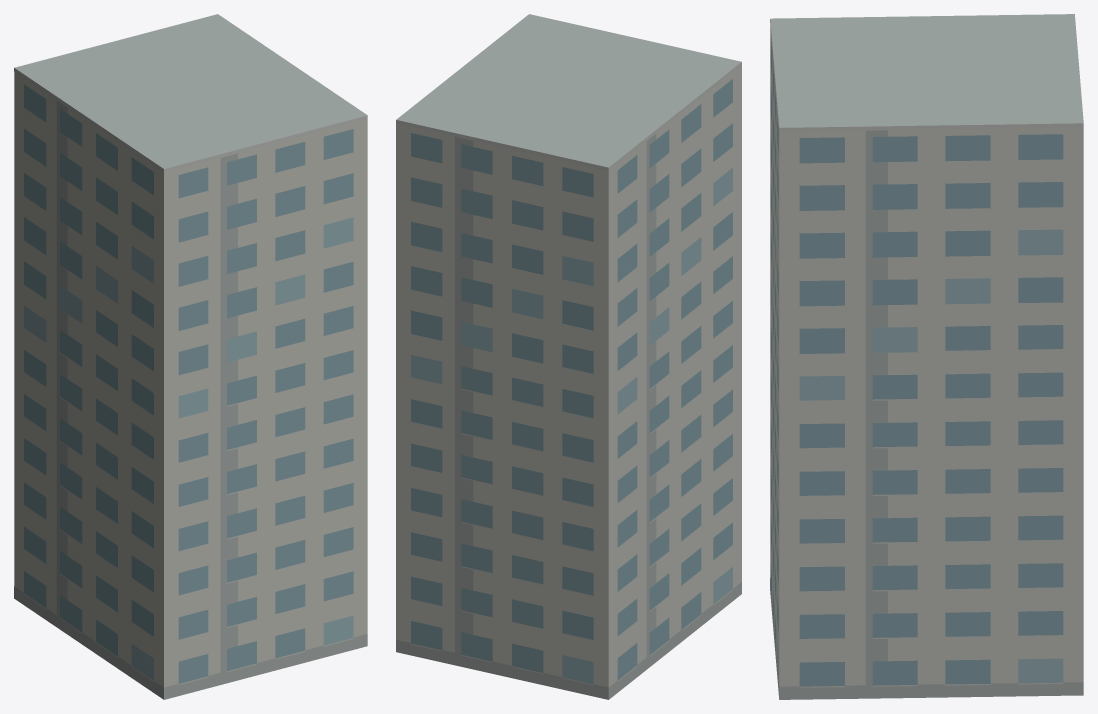
Rendered from residential-5b28ceee-ab10-436b-aec5-4c8119094719.glb.
3 renders of one model, left to right at view 1: azimuth 30°, elevation 25°; view 2: azimuth 150°, elevation 25°; view 3: azimuth 270°, elevation 25°, orthographic. The views are drawn at different scales.
Visible parts, largest first — view 1: residential-5b28ceee-ab10-436b-aec5-4c8119094719.tmp; view 2: residential-5b28ceee-ab10-436b-aec5-4c8119094719.tmp; view 3: residential-5b28ceee-ab10-436b-aec5-4c8119094719.tmp.
Part boxes in pixels (x1,y1,x2,y2): residential-5b28ceee-ab10-436b-aec5-4c8119094719.tmp: [14, 14, 367, 699]; residential-5b28ceee-ab10-436b-aec5-4c8119094719.tmp: [396, 14, 741, 699]; residential-5b28ceee-ab10-436b-aec5-4c8119094719.tmp: [770, 14, 1083, 699].
Bounding box in the file's own units: 14.52 × 34 × 16.9.
